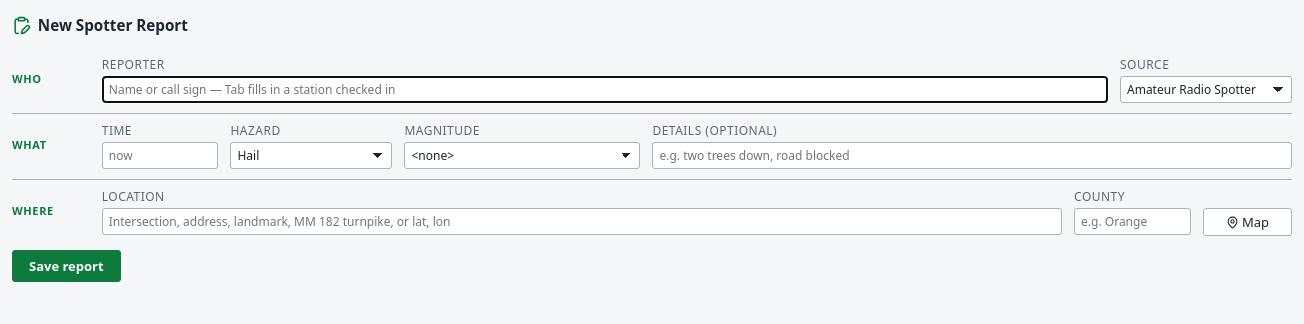
it: SpotterReportForm › fills in a station with Tab and moves on
The width and height of the screenshot is (1304, 324).
Type "w4" into the dropdown labelled "Reporter" at [605, 90], box [102,76,1108,103]
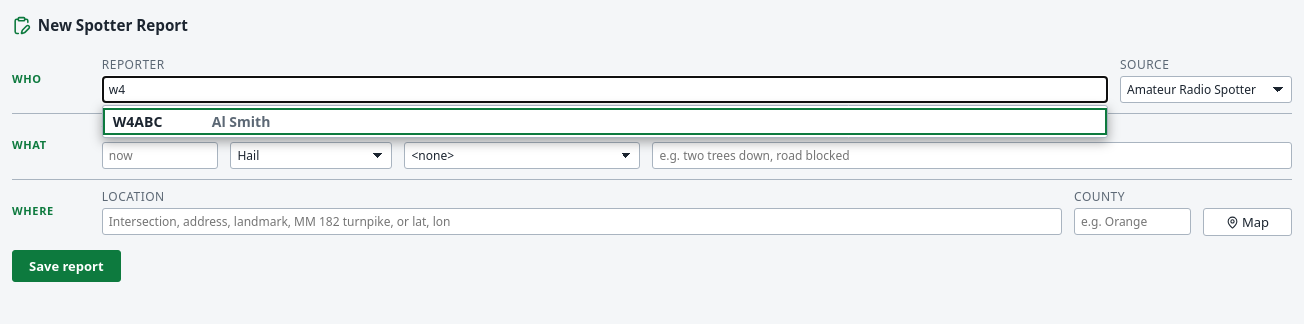
Press Tab
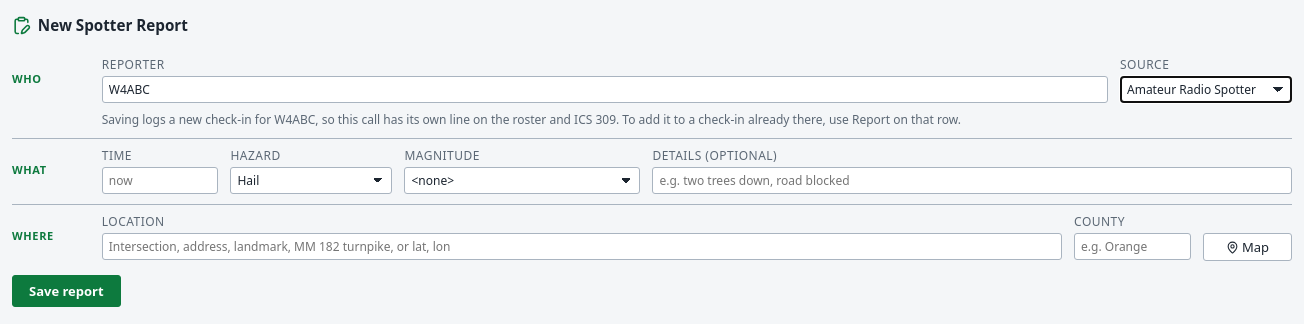
Expected: the dropdown labelled "Reporter" holds "W4ABC", [102,76,1108,103]
